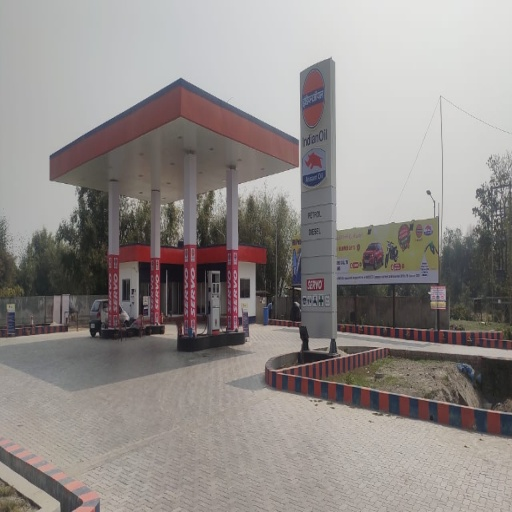roof: (49, 79, 298, 203)
